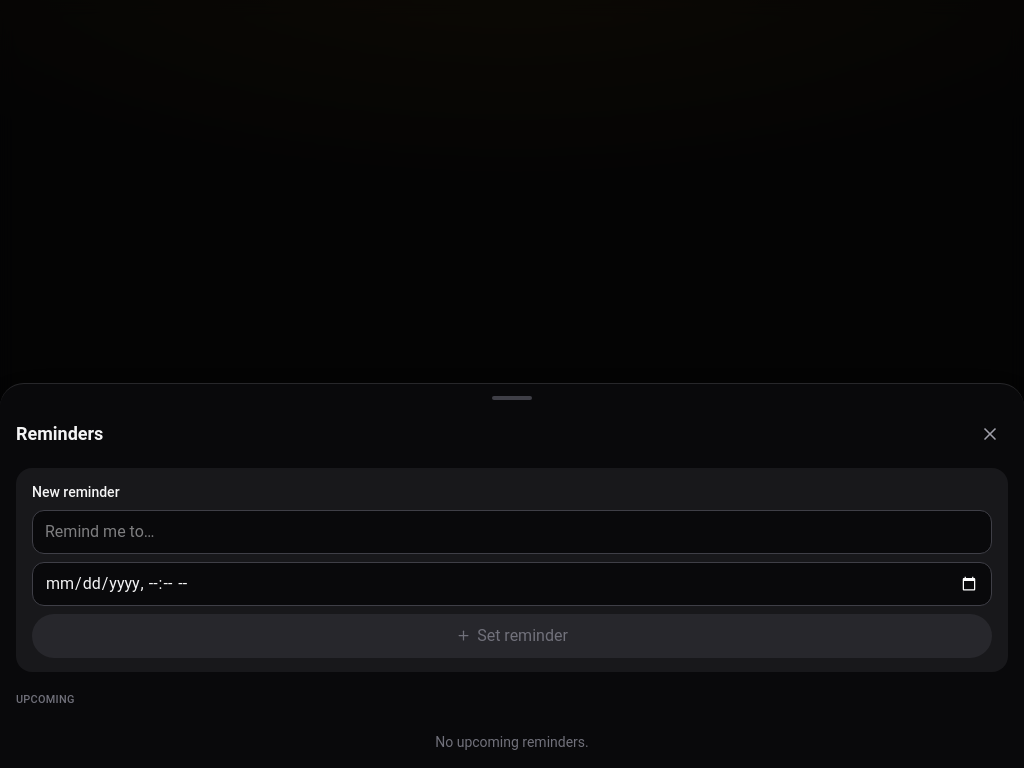
Scenario: ReminderSheet › posts the text + wall-clock to /reminders when a reminder is created
expect the text "No upcoming reminders." is shown: met, box [435,734,589,750]
Type "Call Acme" into the field named "Reminder text" at (512, 532), box [32,510,992,554]
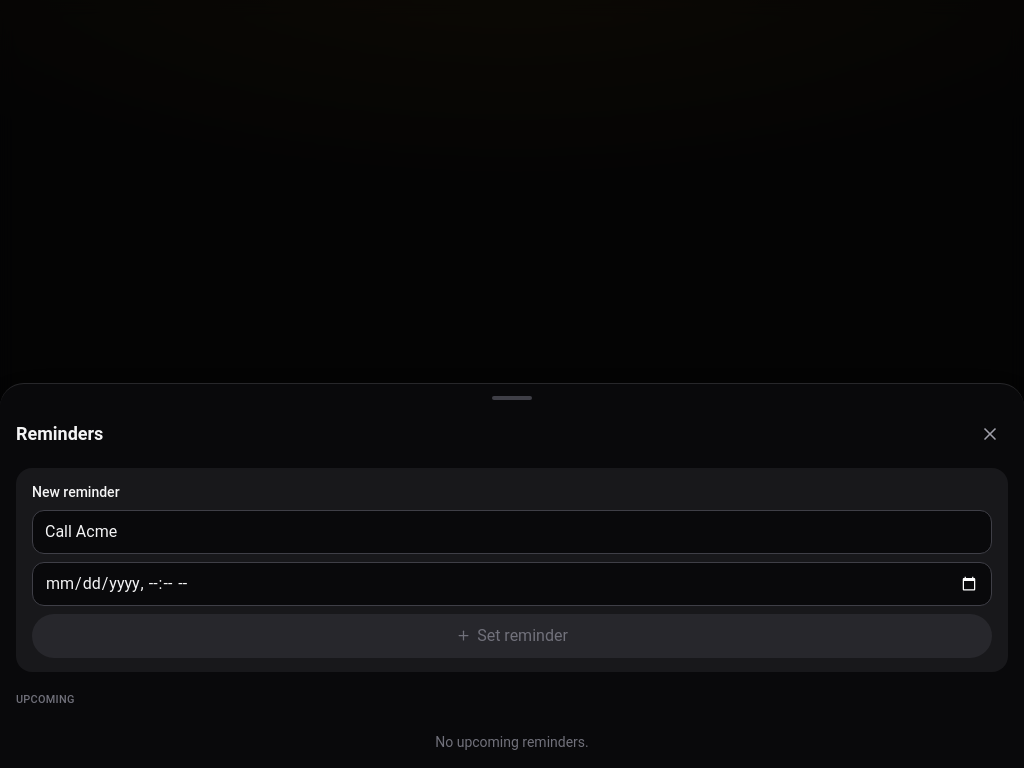
Type "2026-08-01T15:00" into the field named "Reminder time" at (512, 584), box [32,562,992,606]
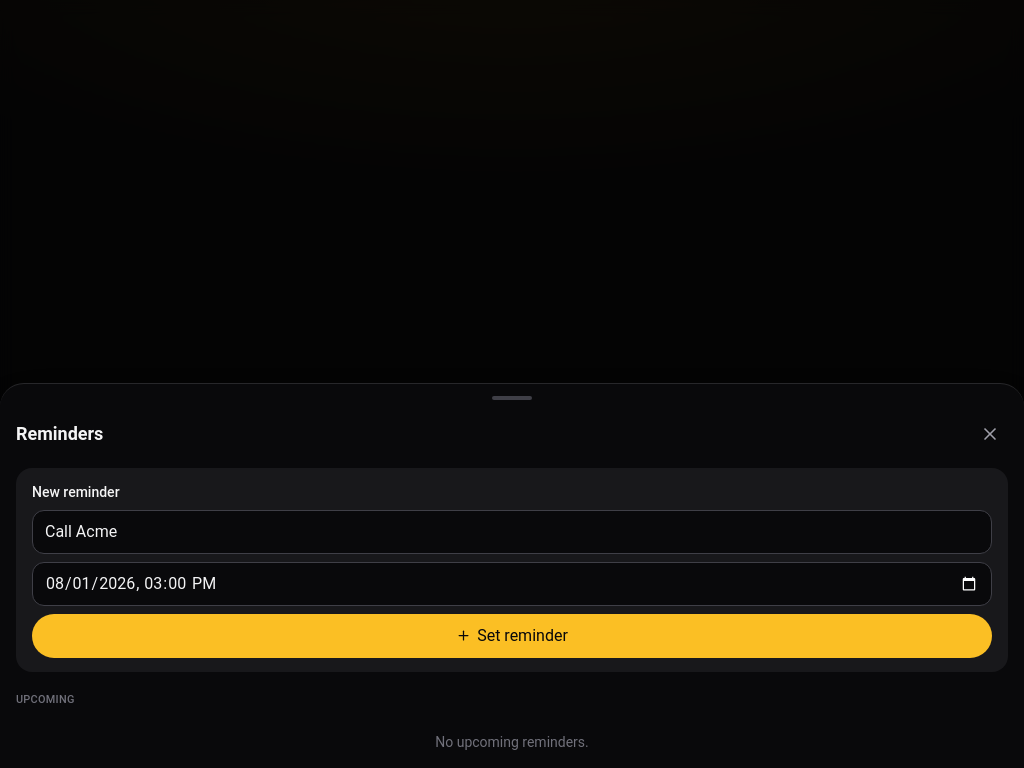
Click the button "Set reminder" at (512, 636), box [32,614,992,658]
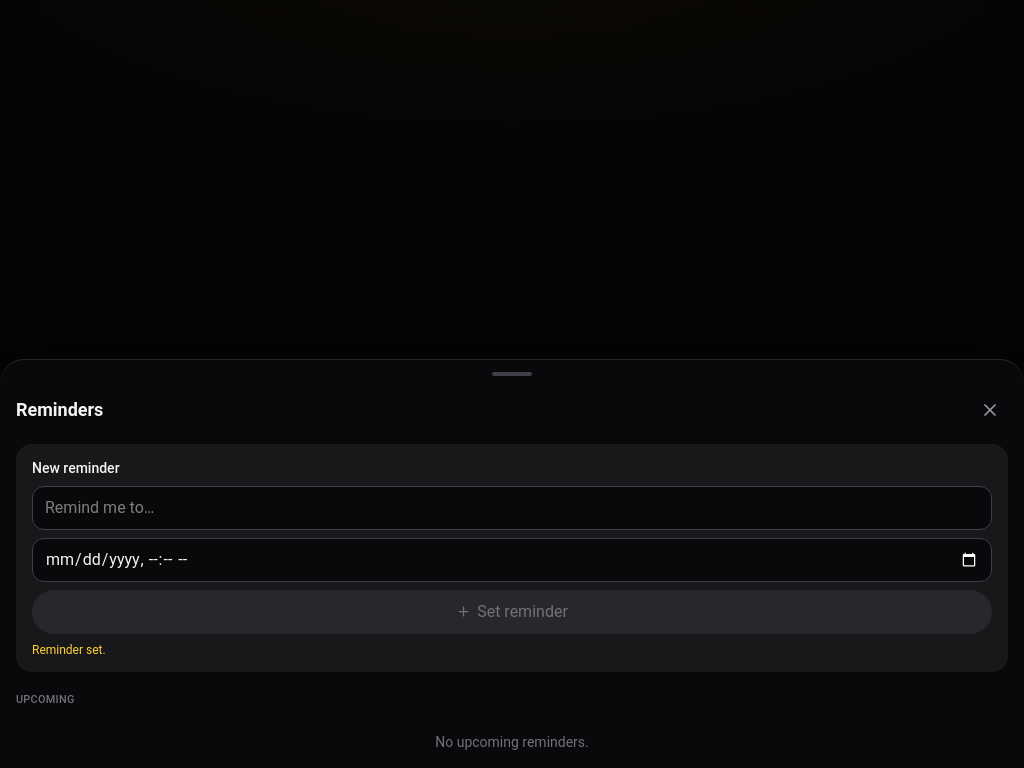
expect the text "Reminder set." is shown: met, box [32,643,106,657]
